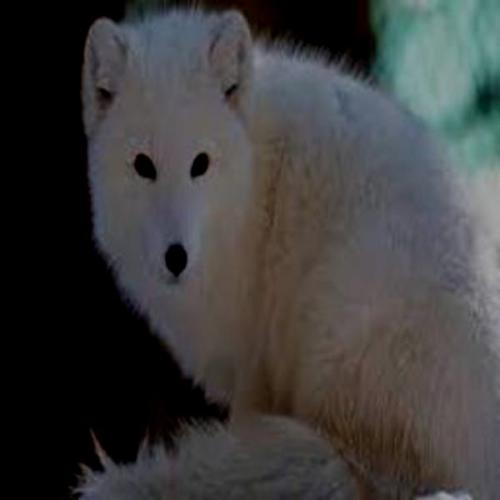arctic_fox-endangered: (82, 19, 494, 492)
